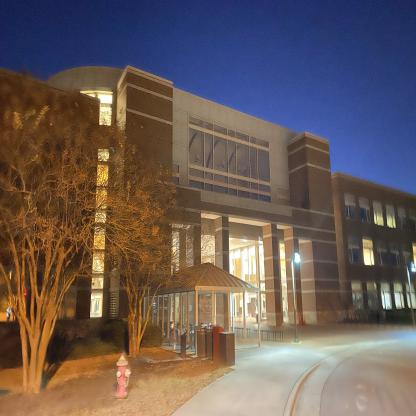eb2: (9, 65, 415, 338)
